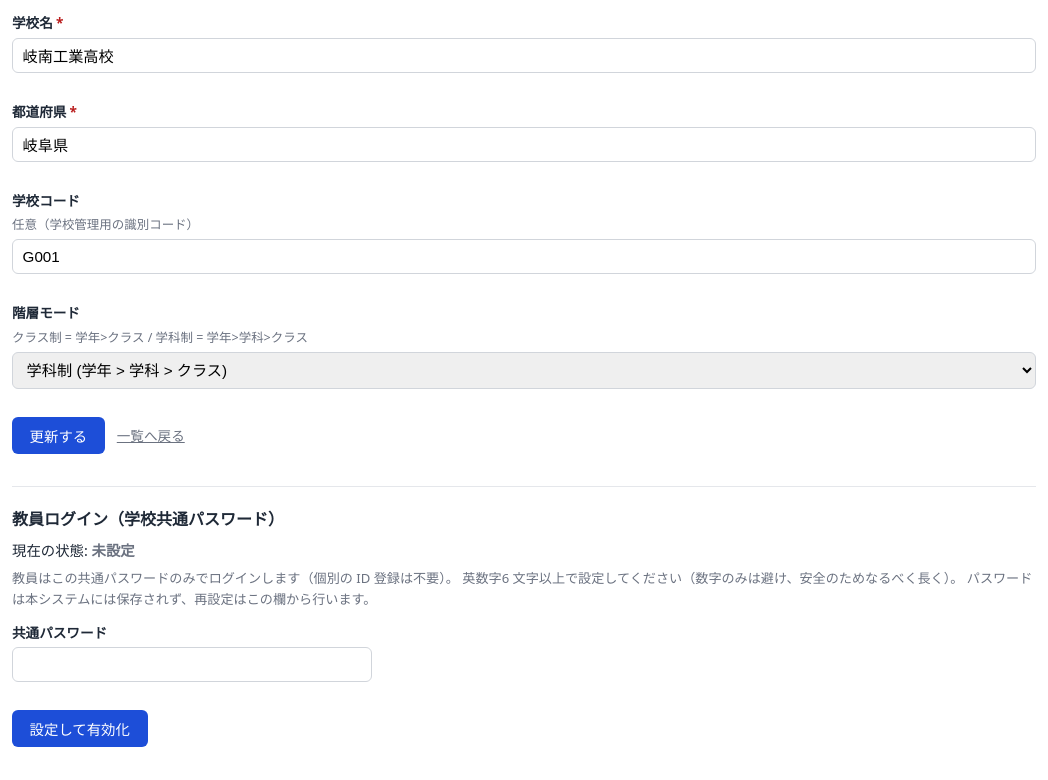
Scenario: SchoolEditForm 項目別検証 + 更新 › 正常編集で id 付きで updateSchoolAction を呼び、成功メッセージを表示する
Replace the text in the field labelled "学校名" with "岐南工業高等学校". click: point(524, 55)
box: [12, 38, 1036, 73]
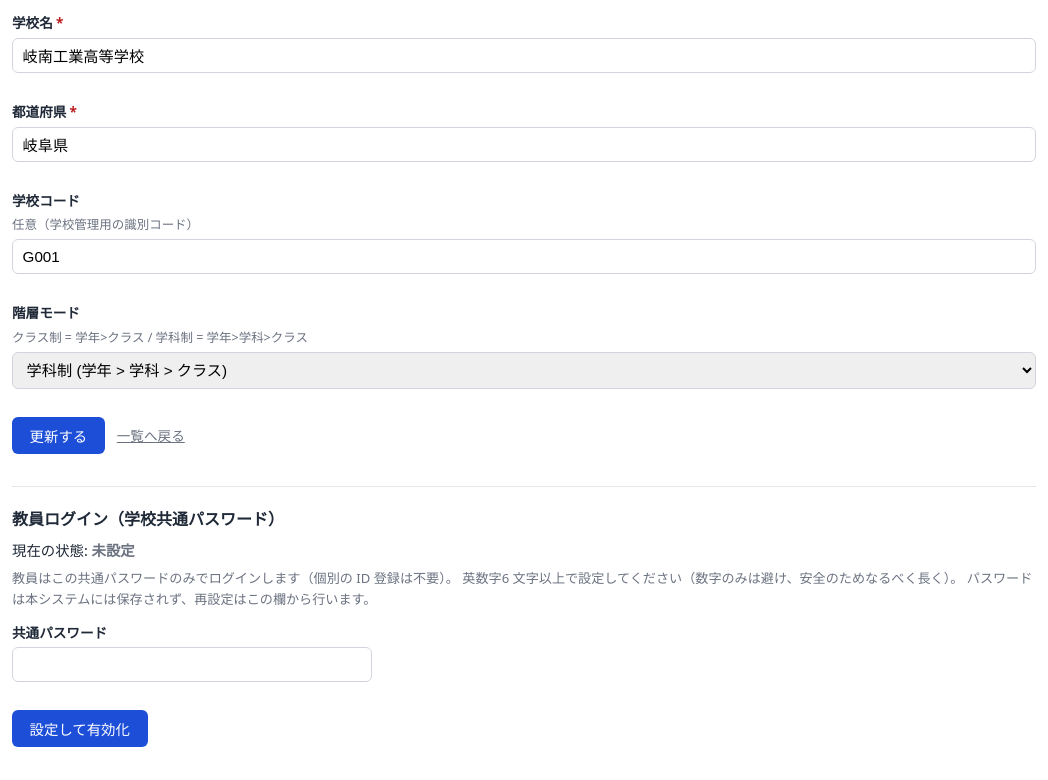
Click the button "更新する". click: point(58, 435)
box: [12, 417, 105, 454]
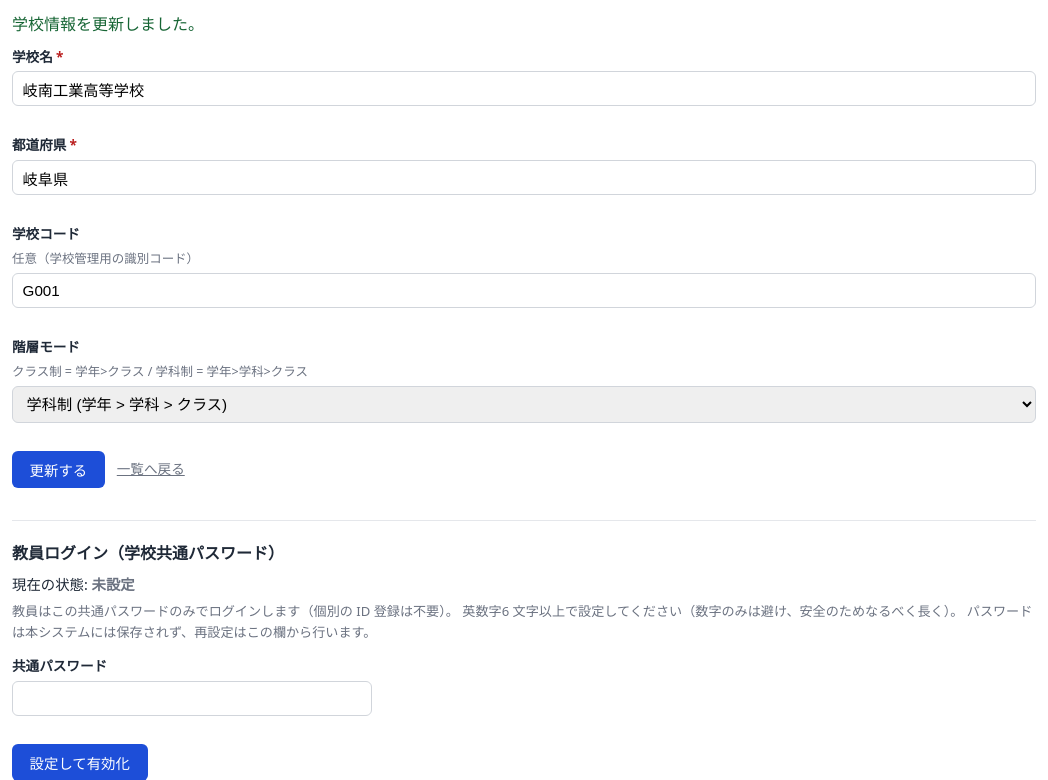
Expected: the text "学校情報を更新しました。" is shown, [12, 13, 204, 35]
